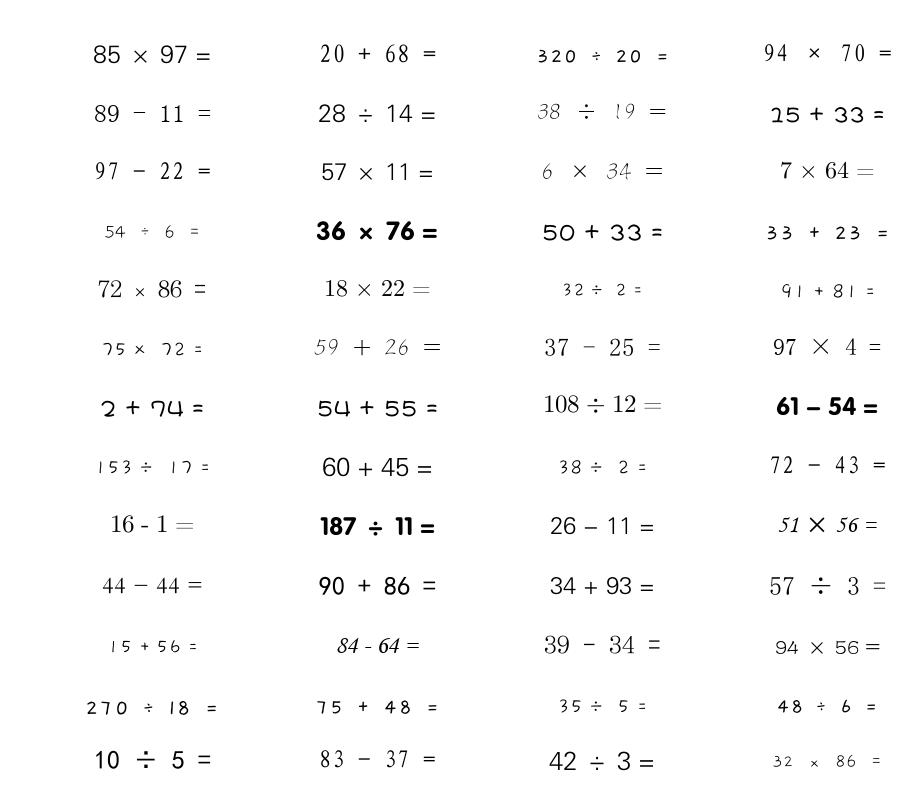MQ: (316, 221, 438, 241), (319, 576, 436, 596), (94, 750, 211, 770), (763, 44, 892, 62), (320, 516, 435, 536), (93, 45, 211, 64), (318, 104, 436, 123), (319, 44, 436, 63), (544, 635, 661, 654), (322, 457, 433, 477), (537, 103, 667, 120), (541, 162, 663, 180), (314, 339, 441, 356), (543, 395, 662, 413), (549, 751, 655, 771), (94, 162, 211, 180), (544, 338, 661, 356), (769, 456, 886, 474), (769, 577, 886, 595), (319, 750, 436, 768), (542, 224, 663, 241), (317, 400, 438, 417), (776, 396, 878, 416), (321, 163, 434, 181), (85, 700, 219, 715), (550, 516, 655, 535), (94, 105, 211, 122), (98, 280, 206, 298), (324, 279, 431, 297), (550, 577, 655, 595), (536, 49, 669, 63), (769, 107, 885, 123), (773, 338, 881, 355), (100, 400, 204, 417), (765, 226, 890, 240), (94, 460, 210, 475), (315, 700, 439, 714), (102, 577, 203, 594), (780, 161, 875, 179), (777, 517, 877, 533), (775, 640, 880, 655), (772, 754, 883, 768), (101, 342, 203, 357), (780, 283, 875, 299), (110, 515, 194, 533), (776, 699, 878, 713), (104, 225, 201, 239), (557, 460, 647, 475), (557, 699, 647, 714), (335, 637, 419, 653), (107, 640, 198, 654), (561, 283, 643, 297)
